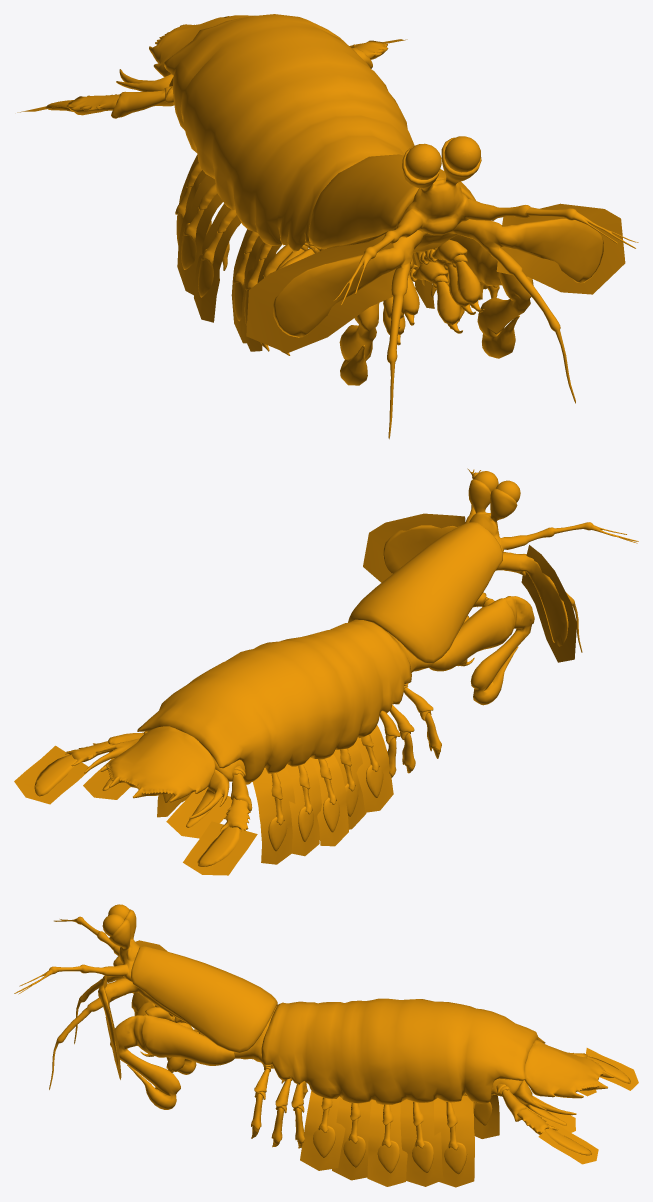
The model's file is MantisShrimp.fbx.
3 renders of one model, top to bottom at view 1: azimuth 30°, elevation 25°; view 2: azimuth 150°, elevation 25°; view 3: azimuth 270°, elevation 25°, orthographic. The views are drawn at different scales.
Parts seen in each view (by area): view 1: mantisshrimp; view 2: mantisshrimp; view 3: mantisshrimp.
Part boxes in pixels (x1,y1,x2,y2): mantisshrimp: (17,14,638,439); mantisshrimp: (14,468,638,875); mantisshrimp: (14,904,638,1187).
Bounding box in the file's own units: 459 × 325 × 820.
